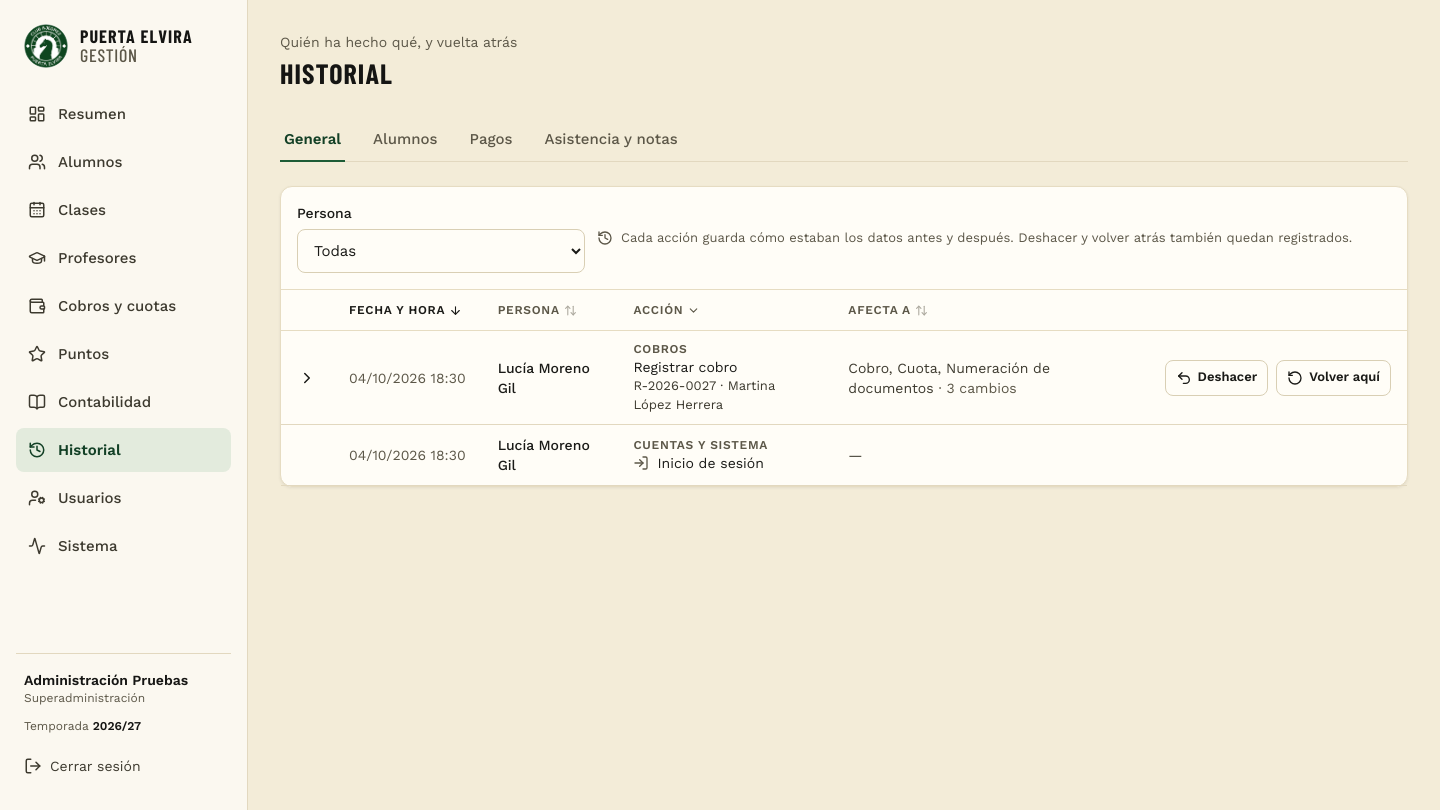
it: Historial › shows every group of the student before and after an enrolment change
Click the button named "Ver detalle de Registrar cobro".
click(307, 378)  # box top-left (289, 360), bottom-right (325, 396)
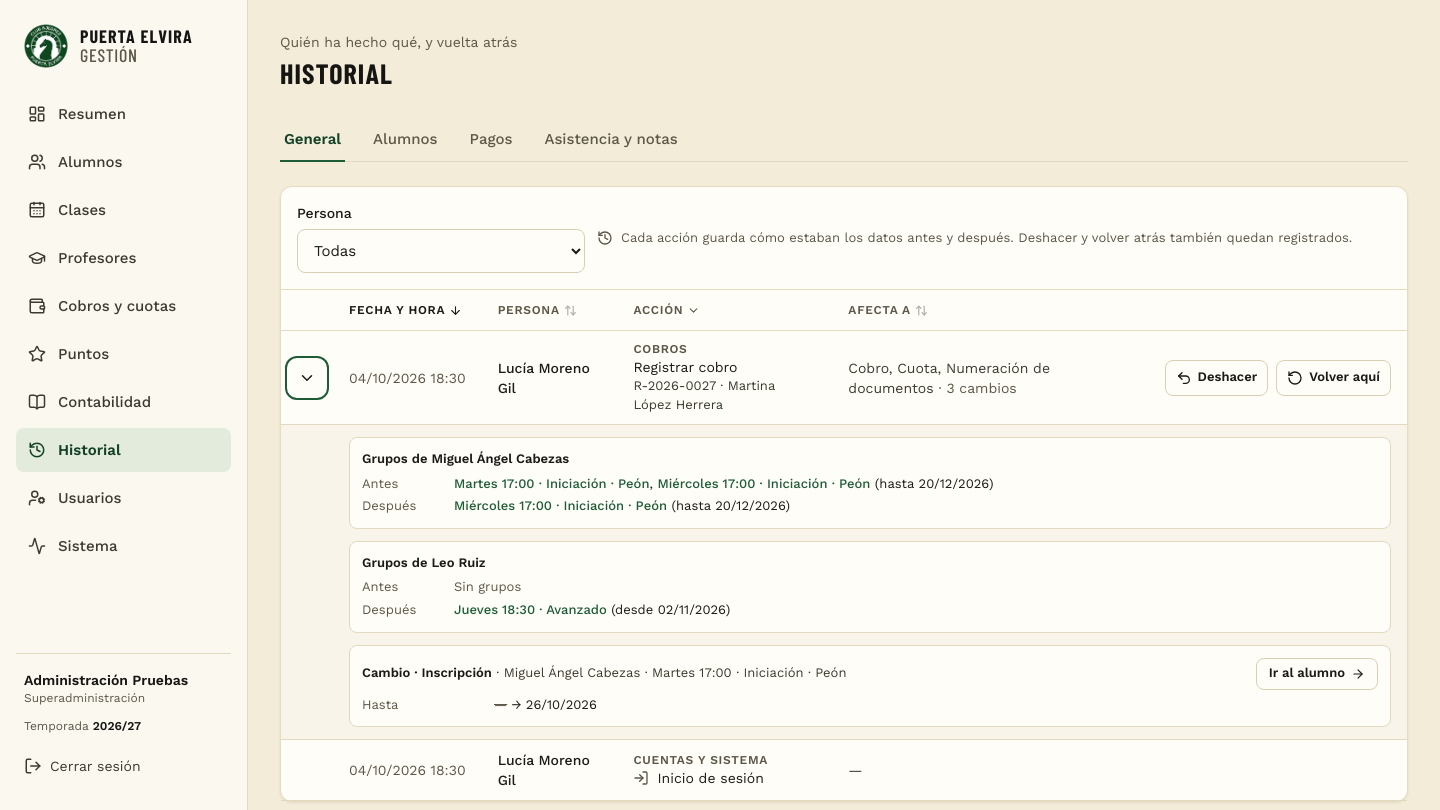
Expected: the element named "Después" reads "Miércoles 17:00 · Iniciación · Peón (hasta 20/12/2026)", top-left (454, 498), bottom-right (790, 513)
Expected: the element named "Antes" reads "Sin grupos", top-left (454, 579), bottom-right (521, 594)
Expected: the element named "Después" reads "Jueves 18:30 · Avanzado (desde 02/11/2026)", top-left (454, 602), bottom-right (730, 617)
